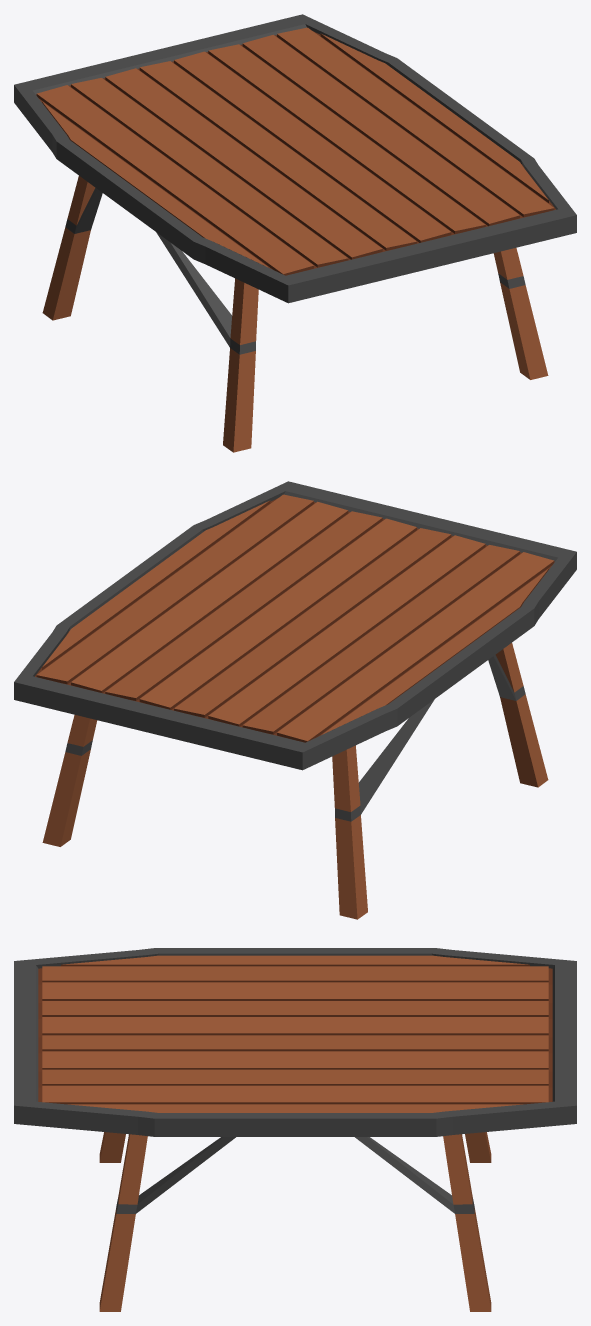
File: Table.fbx
The picture shows the model from 3 angles, top to bottom: view 1: azimuth 30°, elevation 25°; view 2: azimuth 150°, elevation 25°; view 3: azimuth 270°, elevation 25°; orthographic projection. The views are drawn at different scales.
Visible parts, largest first — view 1: Table; view 2: Table; view 3: Table.
Part boxes in pixels (box(x1,y1,x2,y2)): Table: box(14, 14, 576, 452); Table: box(14, 481, 576, 919); Table: box(14, 948, 576, 1311).
Bounding box in the file's own units: 2669 × 1457 × 3720.
